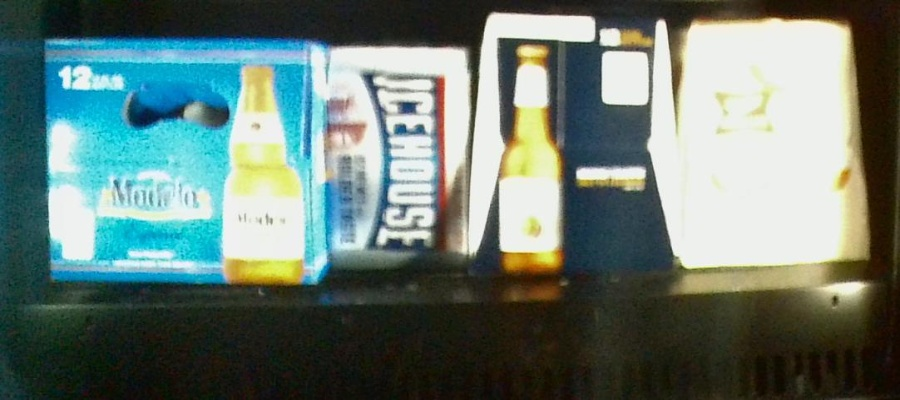bottle: (44, 40, 324, 287), (476, 11, 682, 272), (683, 14, 869, 263), (329, 42, 469, 278)
